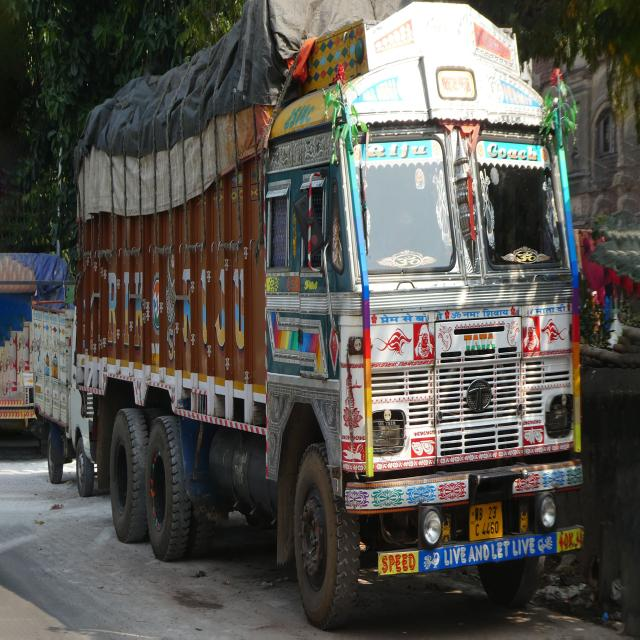truck: (69, 0, 582, 629), (30, 306, 96, 496)
